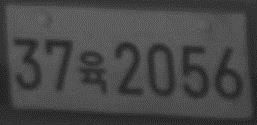0: (146, 43, 176, 97)
2: (113, 40, 143, 96)
3: (13, 38, 42, 90)
5: (181, 44, 209, 98)
6: (214, 46, 243, 99)
7: (44, 38, 71, 92)
육: (79, 50, 107, 93)
